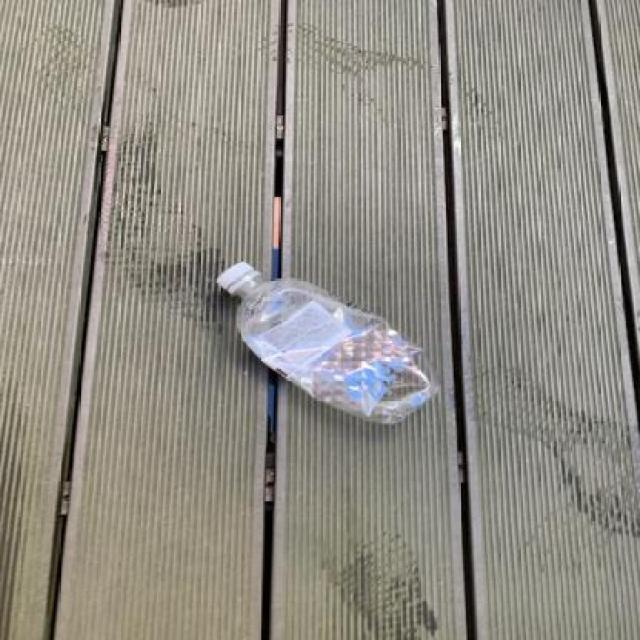trash: (209, 259, 442, 427)
